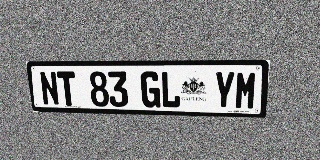3: (108, 71, 128, 107)
8: (89, 71, 109, 107)
G: (140, 71, 160, 108)
L: (161, 71, 180, 108)
M: (234, 71, 258, 110)
N: (39, 71, 60, 106)
T: (57, 71, 78, 106)
Y: (213, 71, 235, 109)
